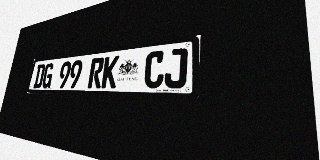9: (68, 60, 83, 88), (57, 61, 72, 88)
C: (143, 50, 166, 88)
D: (33, 64, 46, 88)
G: (41, 63, 55, 88)
J: (164, 48, 188, 88)
K: (101, 55, 120, 88)
R: (87, 57, 105, 88)
